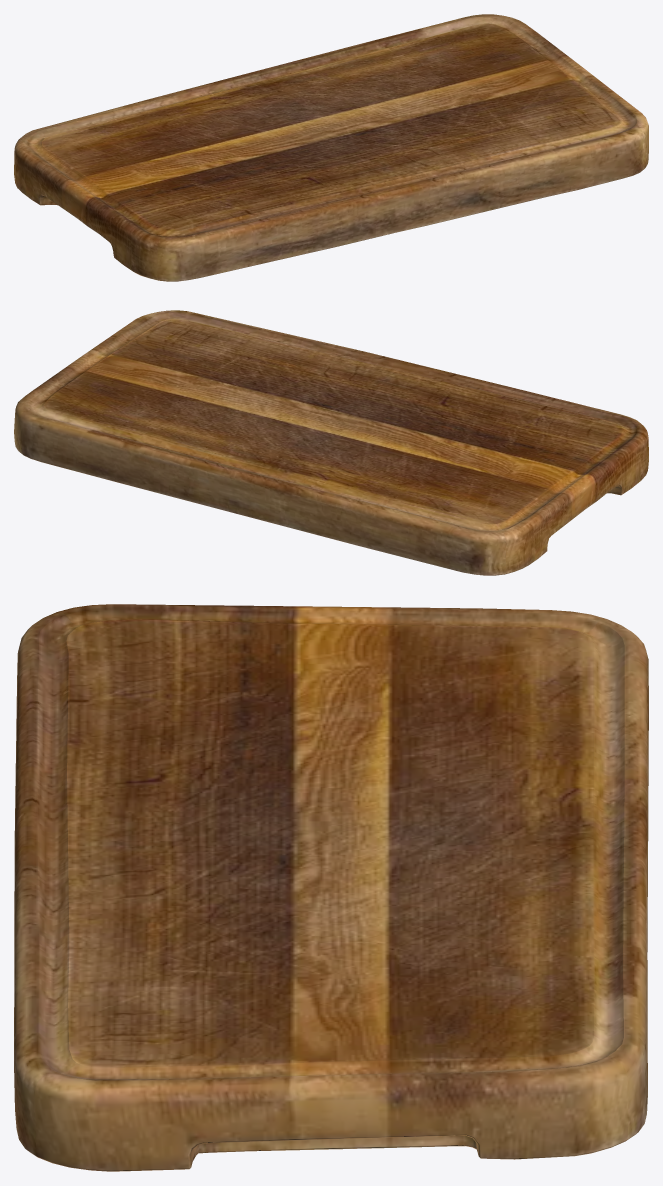
File: ph-wooden_cutting_board.glb
3 views of the same model, one above another, from view 1: azimuth 30°, elevation 25°; view 2: azimuth 150°, elevation 25°; view 3: azimuth 270°, elevation 25° (orthographic). The views are drawn at different scales.
Visible parts, largest first — view 1: wooden_cutting_board; view 2: wooden_cutting_board; view 3: wooden_cutting_board.
Part boxes in pixels (bbox=[...]): wooden_cutting_board: bbox=[14, 14, 648, 281]; wooden_cutting_board: bbox=[14, 310, 648, 575]; wooden_cutting_board: bbox=[14, 604, 648, 1171].
Bounding box in the file's own units: 0.4499 × 0.0412 × 0.2463.
Materials: 1 (1 with a texture image).
